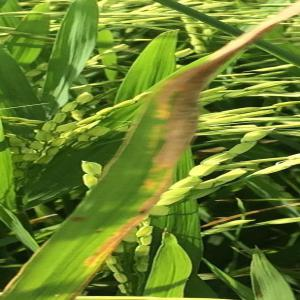Bacterial_Blight: (101, 93, 191, 225)
